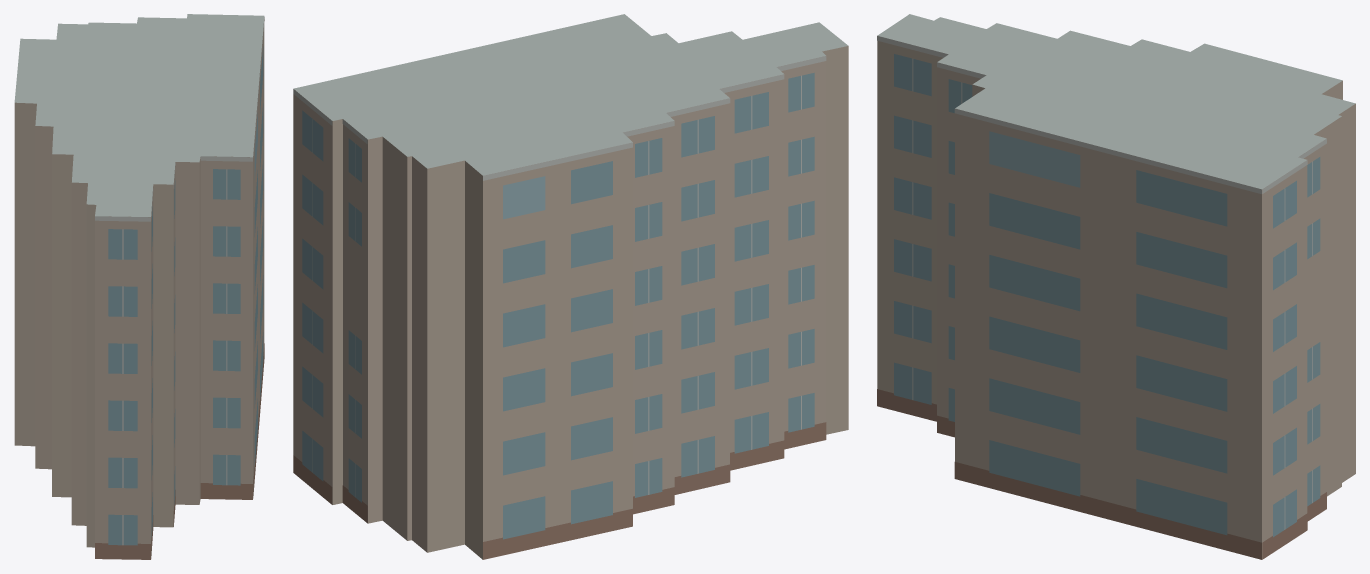
Rendered from survey-upis-32667795.glb.
3 views of the same model, side by side, from view 1: azimuth 30°, elevation 25°; view 2: azimuth 150°, elevation 25°; view 3: azimuth 270°, elevation 25° (orthographic). The views are drawn at different scales.
Visible parts, largest first — view 1: survey-upis-32667795.tmp; view 2: survey-upis-32667795.tmp; view 3: survey-upis-32667795.tmp.
Boxes of the visible parts, left/top/right/bottom form: survey-upis-32667795.tmp: left=14, top=14, right=264, bottom=559; survey-upis-32667795.tmp: left=293, top=14, right=848, bottom=559; survey-upis-32667795.tmp: left=877, top=14, right=1355, bottom=559.
Bounding box in the file's own units: 18.59 × 18.3 × 21.43.
